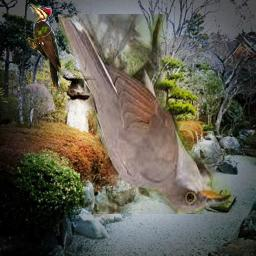Cuckoo: (59, 14, 232, 214)
Woodpecker: (27, 3, 61, 90)
